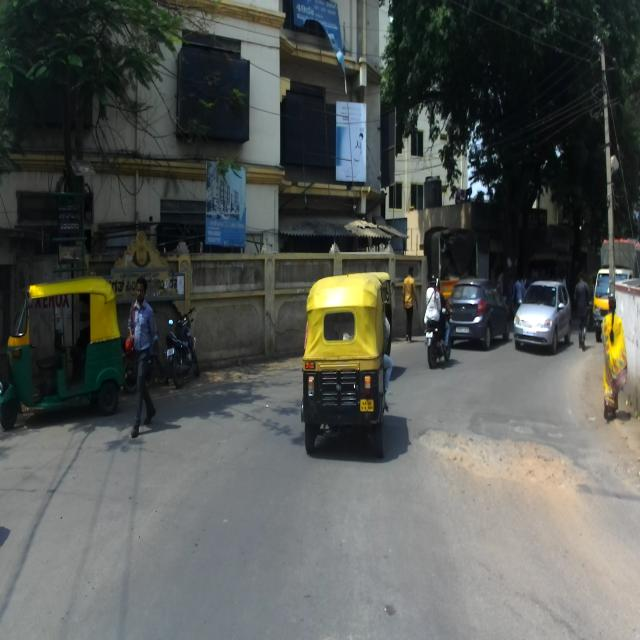auto ahead at: (3, 277, 123, 436), (305, 276, 398, 446)
motorcycle ahead at: (162, 301, 200, 387)
person ahead at: (124, 279, 158, 442), (598, 293, 629, 422)
